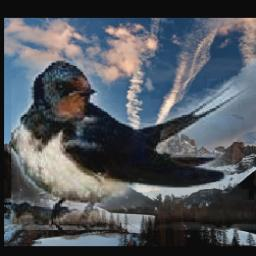Swallow: (11, 61, 256, 230)
